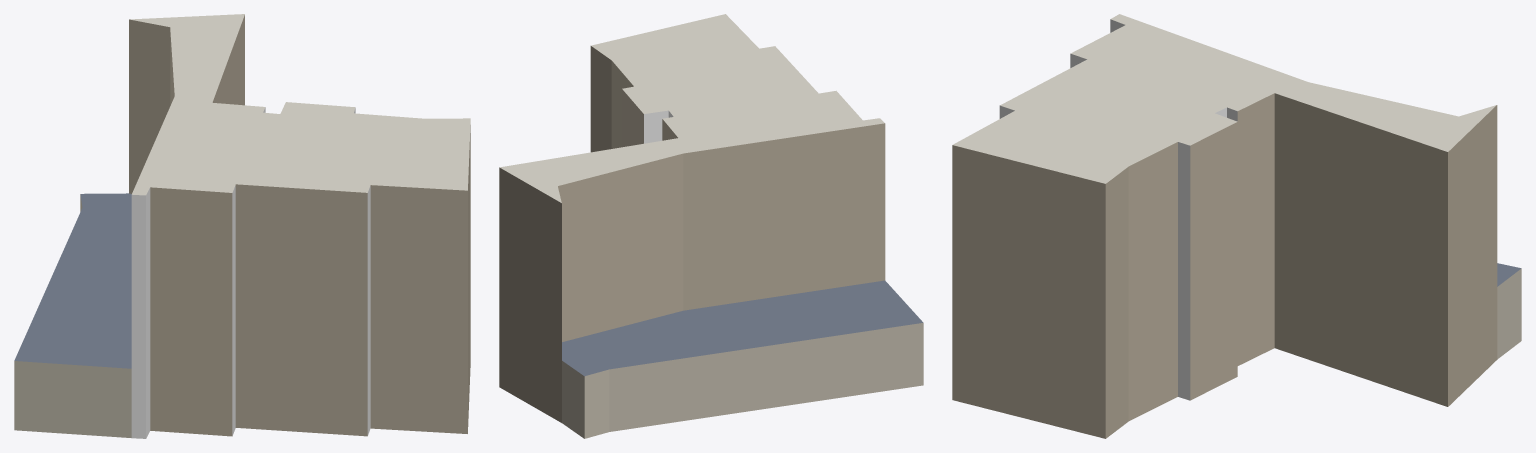
3 renders of one model, left to right at view 1: azimuth 30°, elevation 25°; view 2: azimuth 150°, elevation 25°; view 3: azimuth 270°, elevation 25°, orthographic. The views are drawn at different scales.
Parts seen in each view (by area): view 1: tuile; view 2: tuile; view 3: tuile.
Part boxes in pixels (left/top/right/bottom): tuile: left=14, top=14, right=470, bottom=438; tuile: left=499, top=14, right=923, bottom=438; tuile: left=952, top=14, right=1521, bottom=438.
Size of the model in its own units: 32.5 by 18.33 by 37.1.
